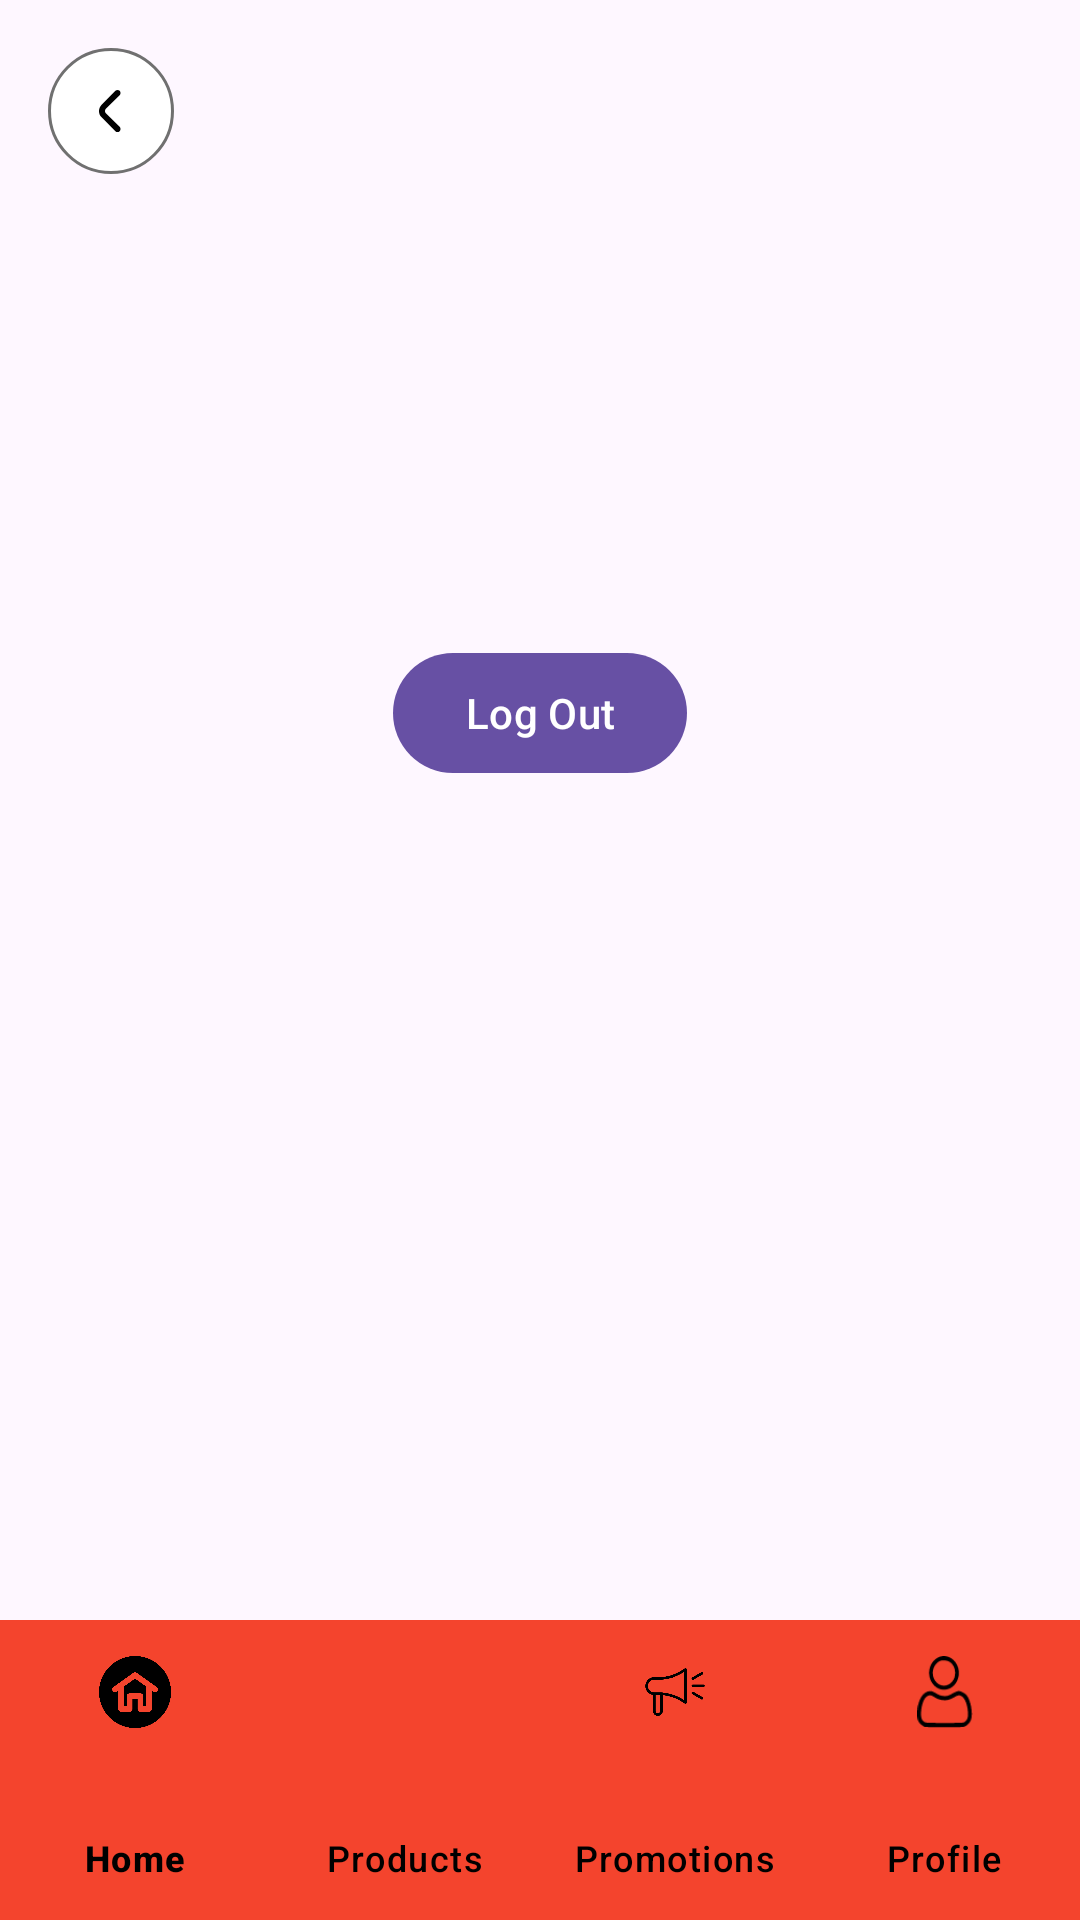

Named icons in this screenshot (1080×1920) and their bounding boxes, (x1, y1, x2, y2):
back: (48, 48, 174, 174)
